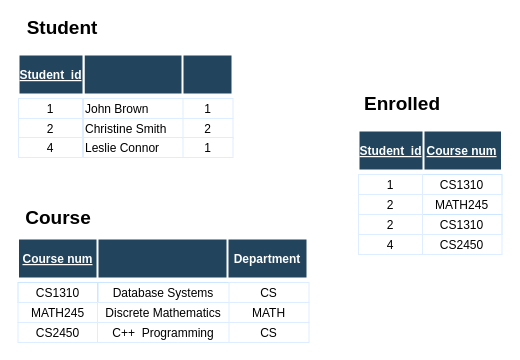
This 520x360 diagram has some shape labels left out. The centre of each missing label's shape, as x and y in pixels:
"Class" belongs at (207,74).
"Course_name" belongs at (163,258).
"Student_name" belongs at (133,74).
